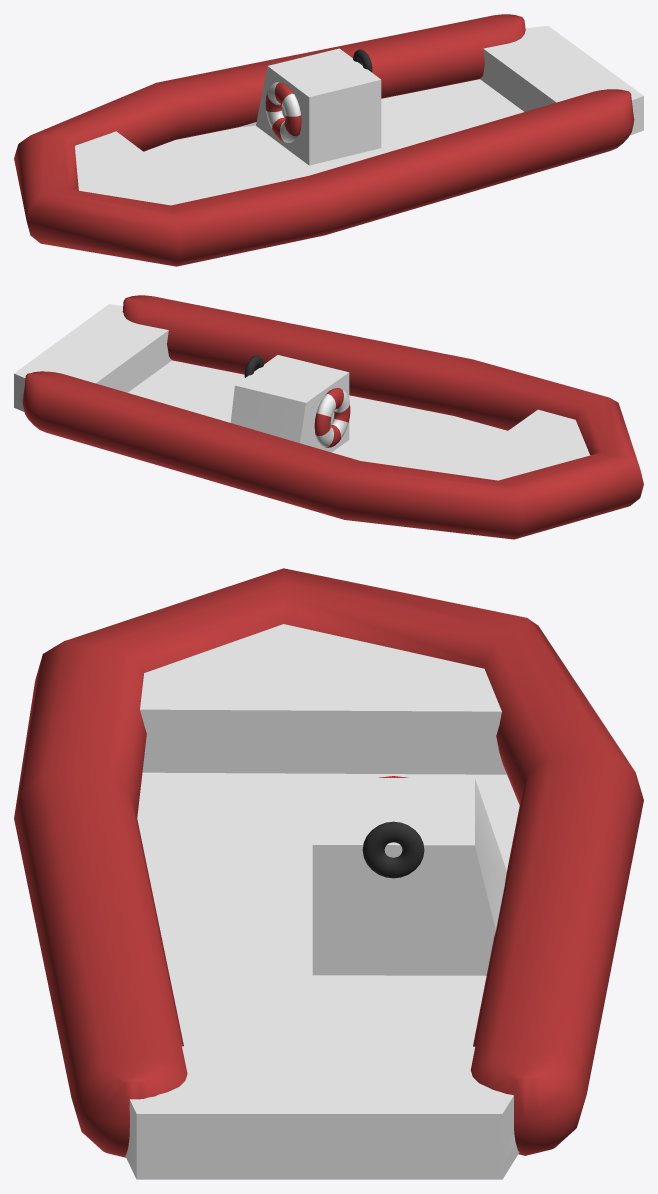
Rendered from abb2068b-98de-4485-b7fd-0d5ca55c510c.glb.
3 views of the same model, one above another, from view 1: azimuth 30°, elevation 25°; view 2: azimuth 150°, elevation 25°; view 3: azimuth 270°, elevation 25° (orthographic). The views are drawn at different scales.
Visible parts, largest first — view 1: Box001; view 2: Box001; view 3: Box001.
Boxes of the visible parts, x1=… form: Box001: x1=14, y1=14, x2=643, y2=266; Box001: x1=14, y1=295, x2=643, y2=539; Box001: x1=14, y1=568, x2=643, y2=1179.
Bounding box in the file's own units: 141 × 21.02 × 69.56.
